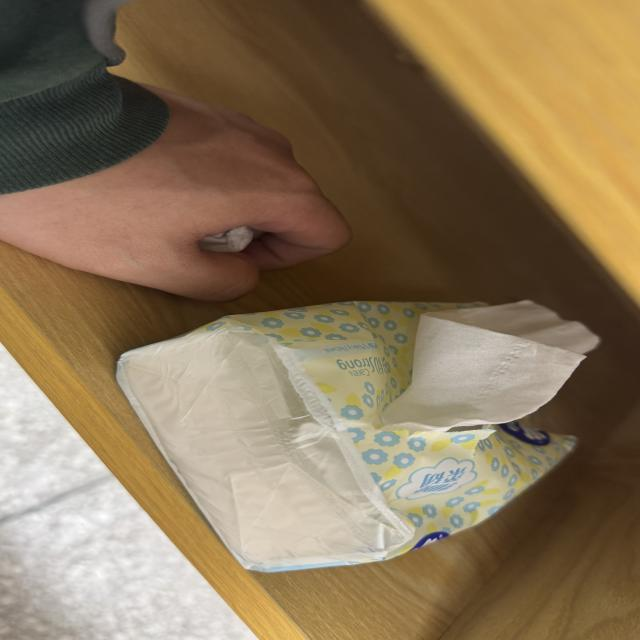tissue: (118, 302, 596, 570), (384, 301, 598, 429), (199, 227, 264, 252), (199, 227, 255, 252)
